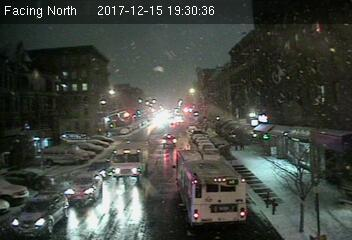bus: (175, 149, 246, 225)
car: (10, 190, 70, 234), (64, 172, 103, 204), (89, 160, 112, 178), (160, 134, 178, 148)
truck: (110, 140, 148, 179)
